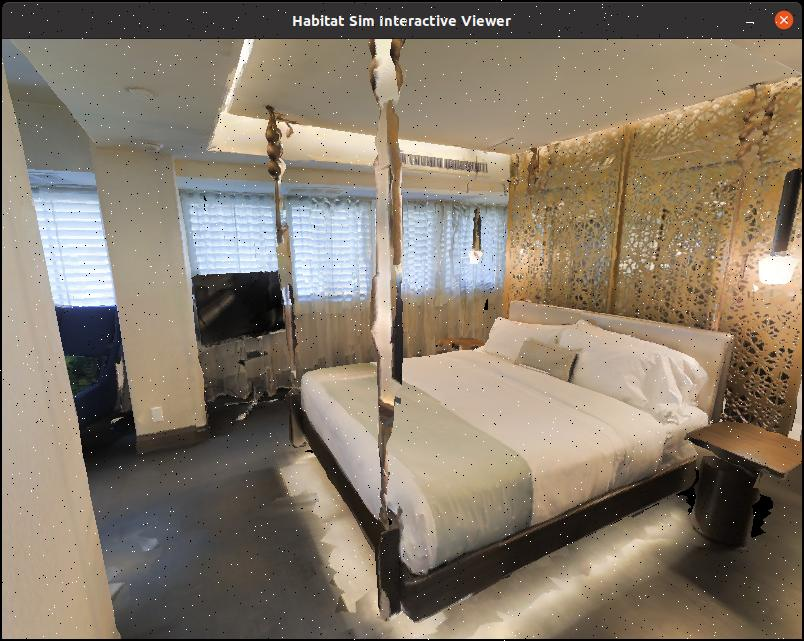bed: (267, 276, 768, 627)
